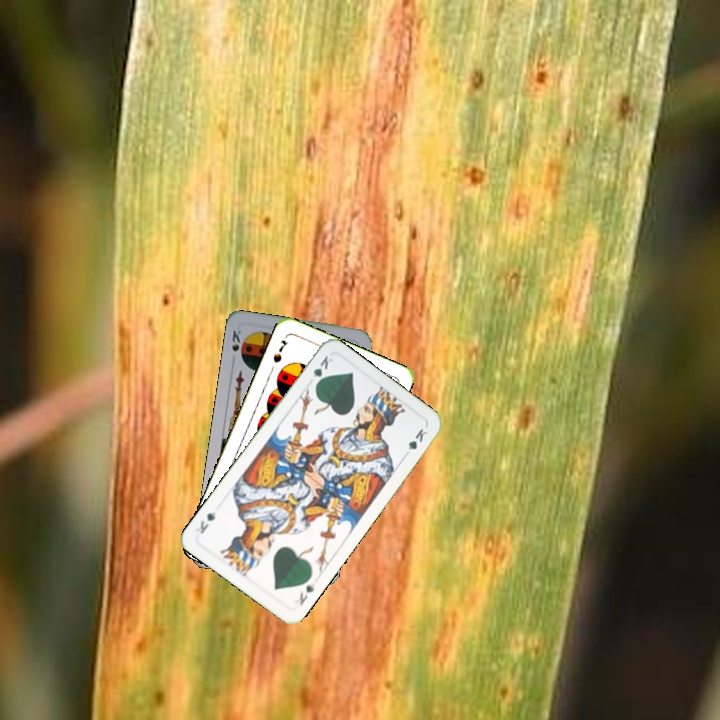GK: (304, 351, 335, 389), (295, 579, 318, 608)
S7: (269, 336, 291, 366)
SK: (227, 326, 244, 354)
